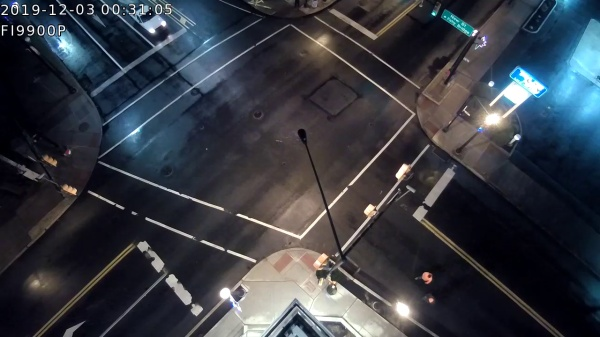car: (117, 1, 170, 38)
